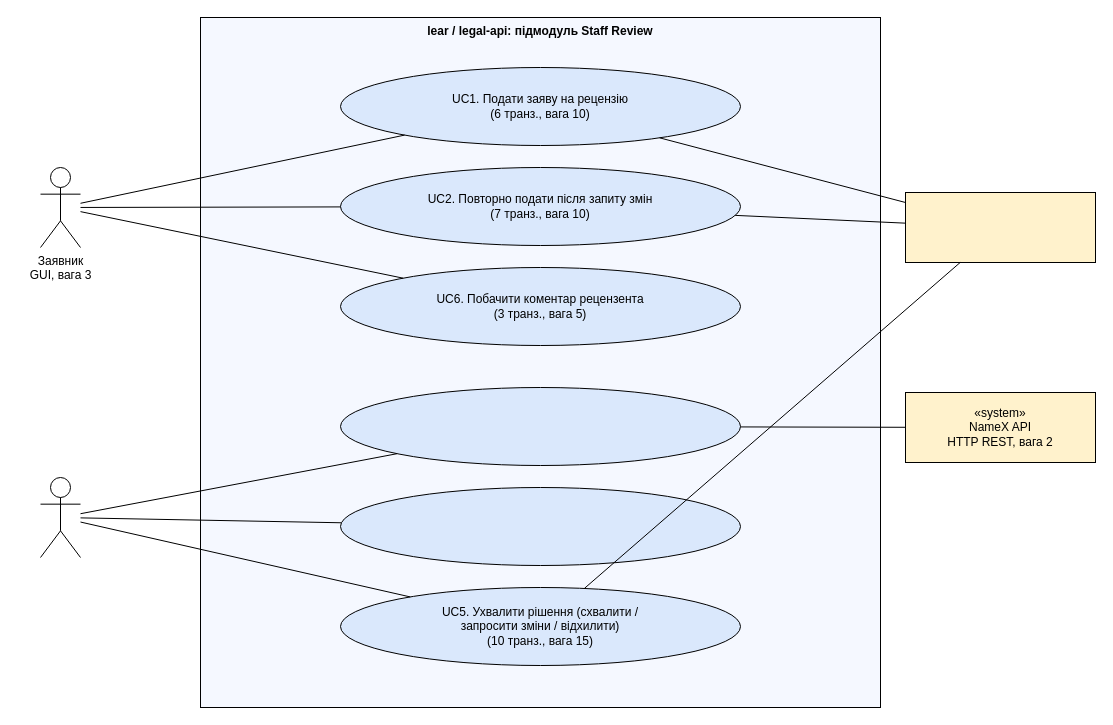
Image size: 1113x725. Some labels were removed from this diagram. Each missing label, with the centre of its shape:
"Staff-рецензент GUI, вага 3" goes at pixel 60 517.
"UC3. Переглянути чергу рецензій (8 транз., вага 15)" goes at pixel 540 426.
"UC4. Відкрити картку рецензії (5 транз., вага 10)" goes at pixel 540 526.
"«system» Business Emailer API черги, вага 1" goes at pixel 1000 227.
